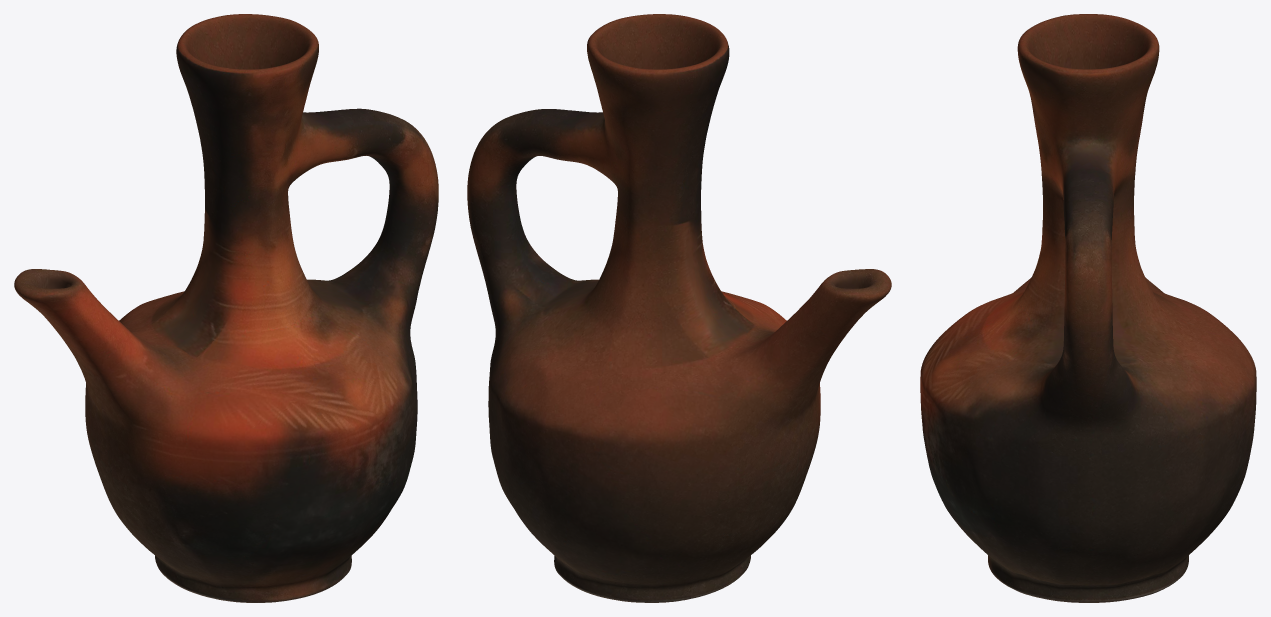
File: clay_vessel_jpeg_fallback.glb
3 renders of one model, left to right at view 1: azimuth 30°, elevation 25°; view 2: azimuth 150°, elevation 25°; view 3: azimuth 270°, elevation 25°, orthographic.
Visible parts, largest first — view 1: Meshy_AI_Burnished_Clay_Vessel_0919172142_texture; view 2: Meshy_AI_Burnished_Clay_Vessel_0919172142_texture; view 3: Meshy_AI_Burnished_Clay_Vessel_0919172142_texture.
Boxes of the visible parts, x1=… form: Meshy_AI_Burnished_Clay_Vessel_0919172142_texture: x1=14, y1=14, x2=438, y2=602; Meshy_AI_Burnished_Clay_Vessel_0919172142_texture: x1=467, y1=14, x2=891, y2=602; Meshy_AI_Burnished_Clay_Vessel_0919172142_texture: x1=920, y1=14, x2=1256, y2=602.
Bounding box in the file's own units: 1.58 × 1.9 × 1.11.
Materials: 1 (1 with a texture image).
